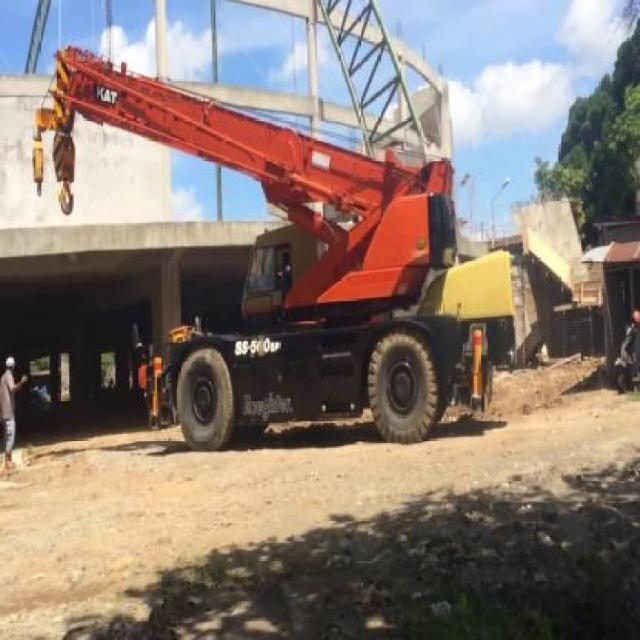Mobile Crane: (34, 52, 514, 440)
